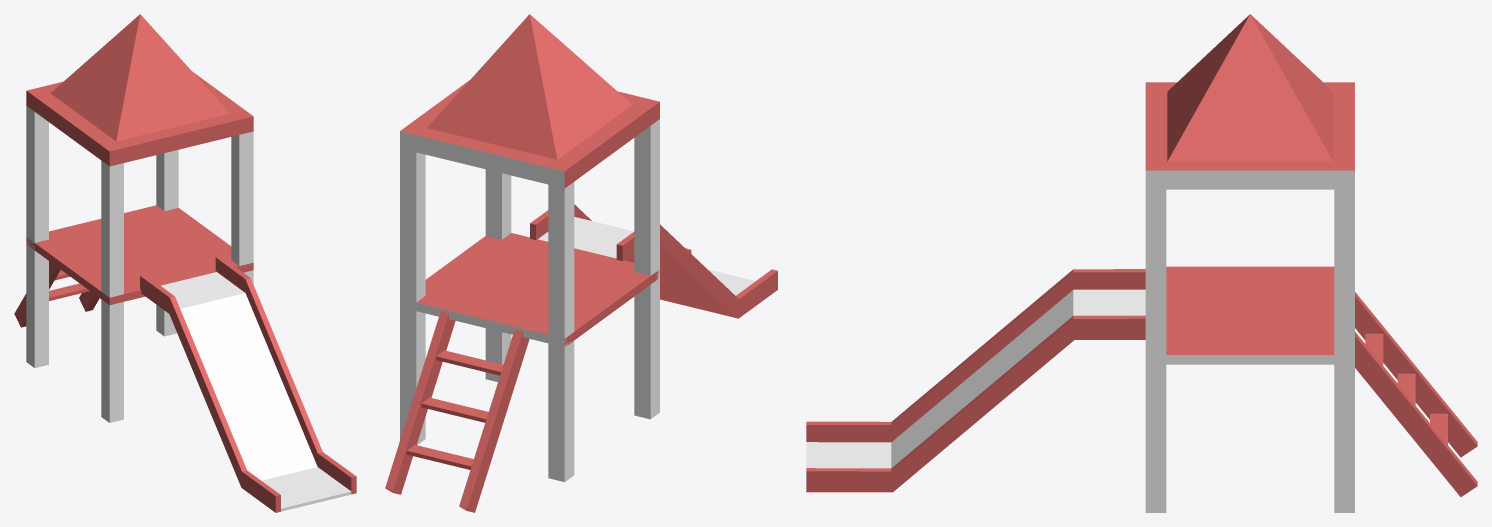
The model's file is 038 Slider.FBX.
3 views of the same model, side by side, from view 1: azimuth 30°, elevation 25°; view 2: azimuth 150°, elevation 25°; view 3: azimuth 270°, elevation 25° (orthographic). The views are drawn at different scales.
Parts seen in each view (by area): view 1: Plane001; view 2: Plane001; view 3: Plane001.
Boxes of the visible parts, box(x1,y1,x2,y2) form: Plane001: box(14, 14, 356, 512); Plane001: box(385, 14, 777, 512); Plane001: box(806, 14, 1477, 512).
Size of the model in its own units: 98.94 by 240 by 317.
